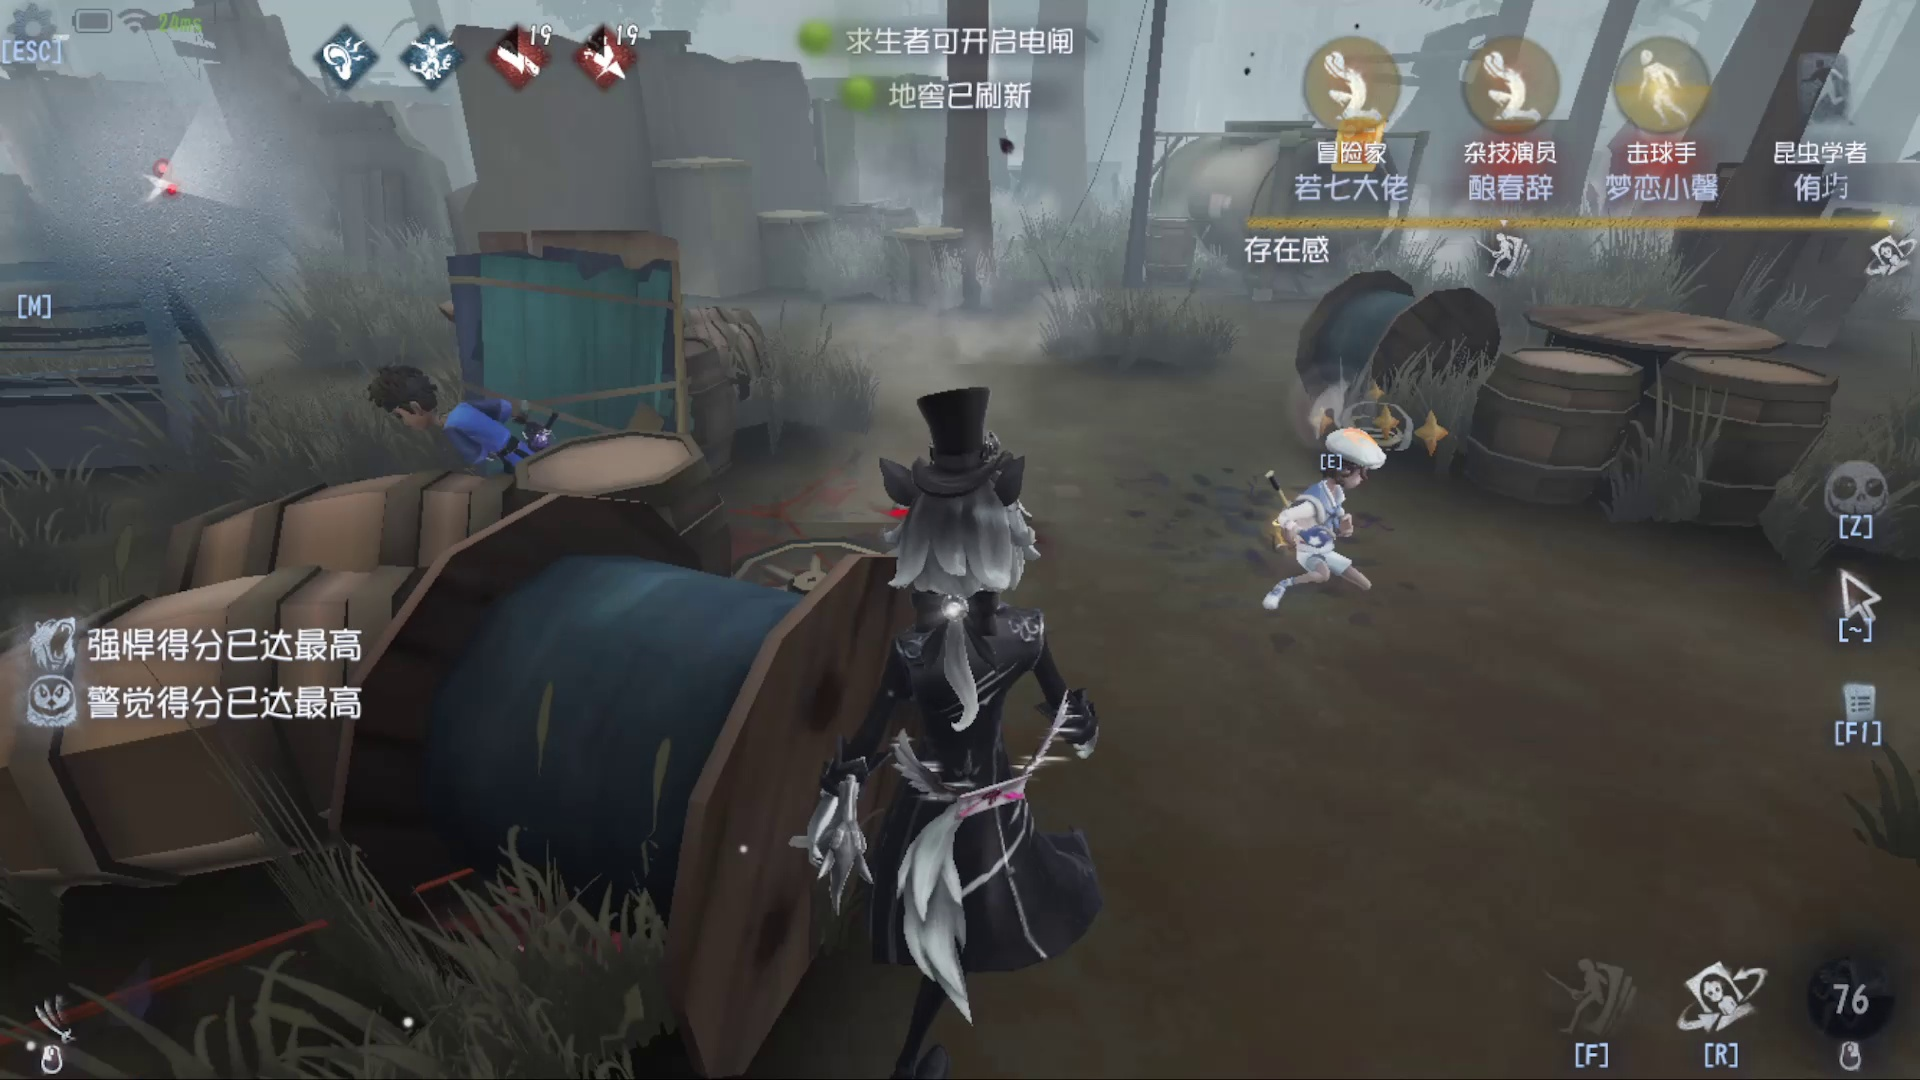木板: (422, 223, 704, 423)
求生者: (1197, 411, 1389, 607), (384, 351, 560, 502)
